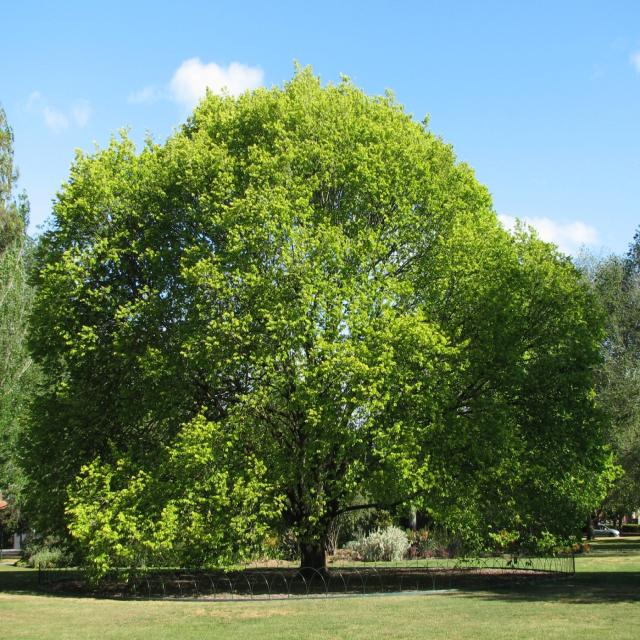olivo: (29, 69, 613, 596)
